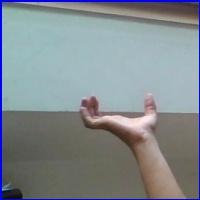space: (75, 87, 165, 152)
